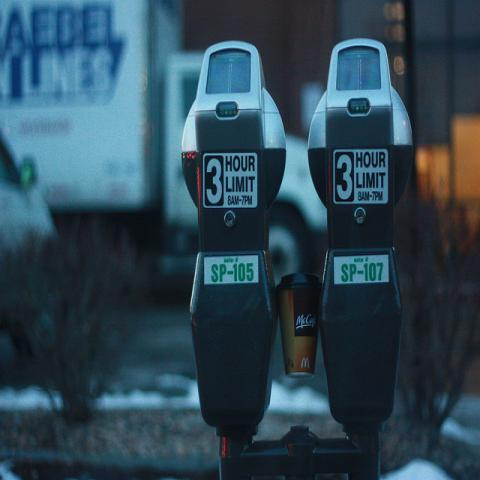car: (1, 129, 57, 343)
truck: (1, 2, 158, 202)
